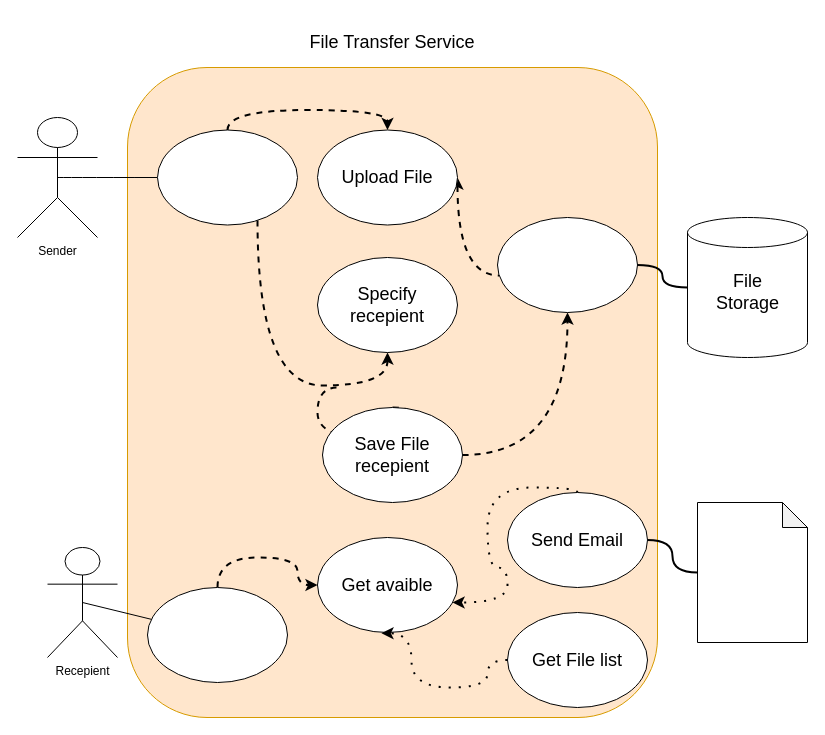
Some shapes in this 825 by 735 pixel diagram are drawn without their labels. The shapes that lost their labels are listed below. From the top down, each one's centre as x and y in pixels, then its label:
(227,177): Send File
(567,264): Store File
(752,572): Email Servise
(217,634): Get File
